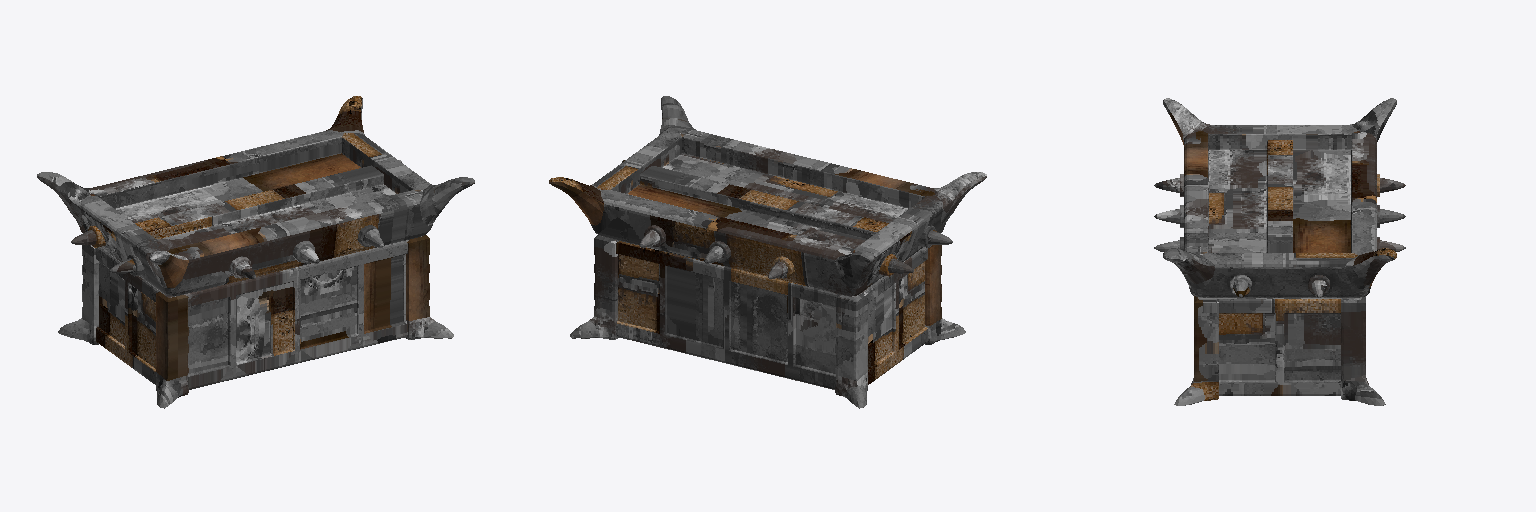
3 renders of one model, left to right at view 1: azimuth 30°, elevation 25°; view 2: azimuth 150°, elevation 25°; view 3: azimuth 270°, elevation 25°, orthographic.
Parts seen in each view (by area): view 1: bottom_low.002; view 2: bottom_low.002; view 3: bottom_low.002.
Boxes of the visible parts, x1,y1,x2,y2 form: bottom_low.002: [37, 96, 474, 408]; bottom_low.002: [549, 96, 986, 408]; bottom_low.002: [1154, 98, 1405, 405].
Size of the model in its own units: 3.02 by 1.4 by 1.98.
Materials: 1 (1 with a texture image).